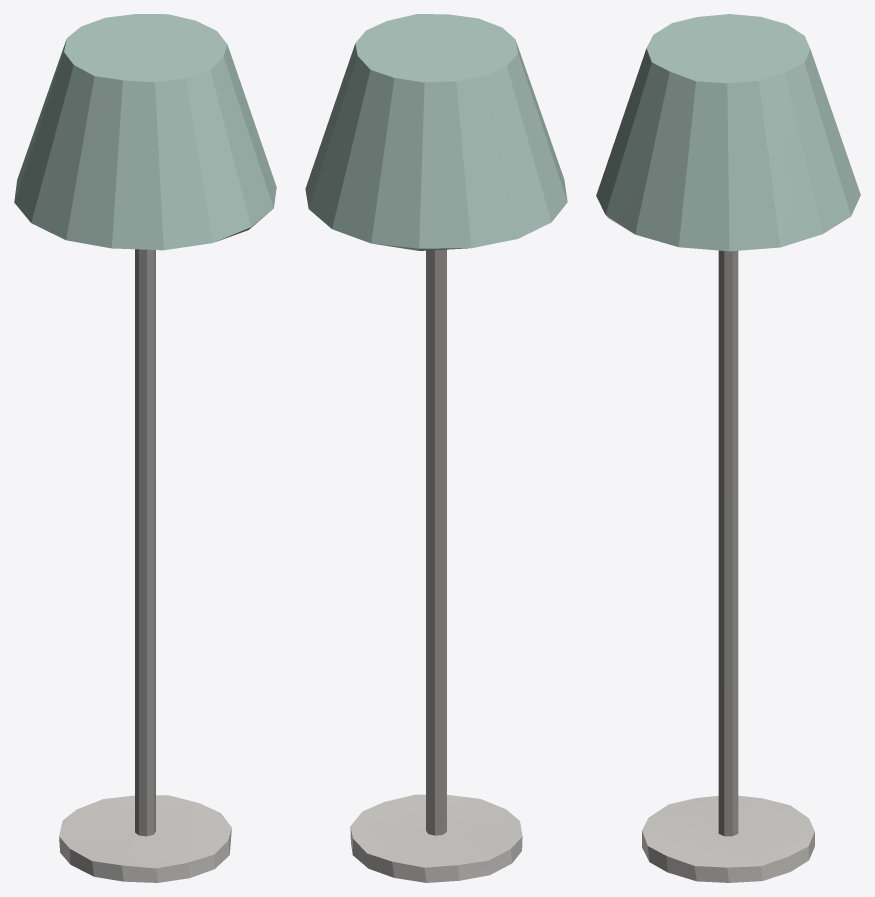
The model's file is furn_floor_lamp__mint_low.glb.
3 views of the same model, side by side, from view 1: azimuth 30°, elevation 25°; view 2: azimuth 150°, elevation 25°; view 3: azimuth 270°, elevation 25° (orthographic).
Bounding box in the file's own units: 0.5122 × 1.71 × 0.5122.
